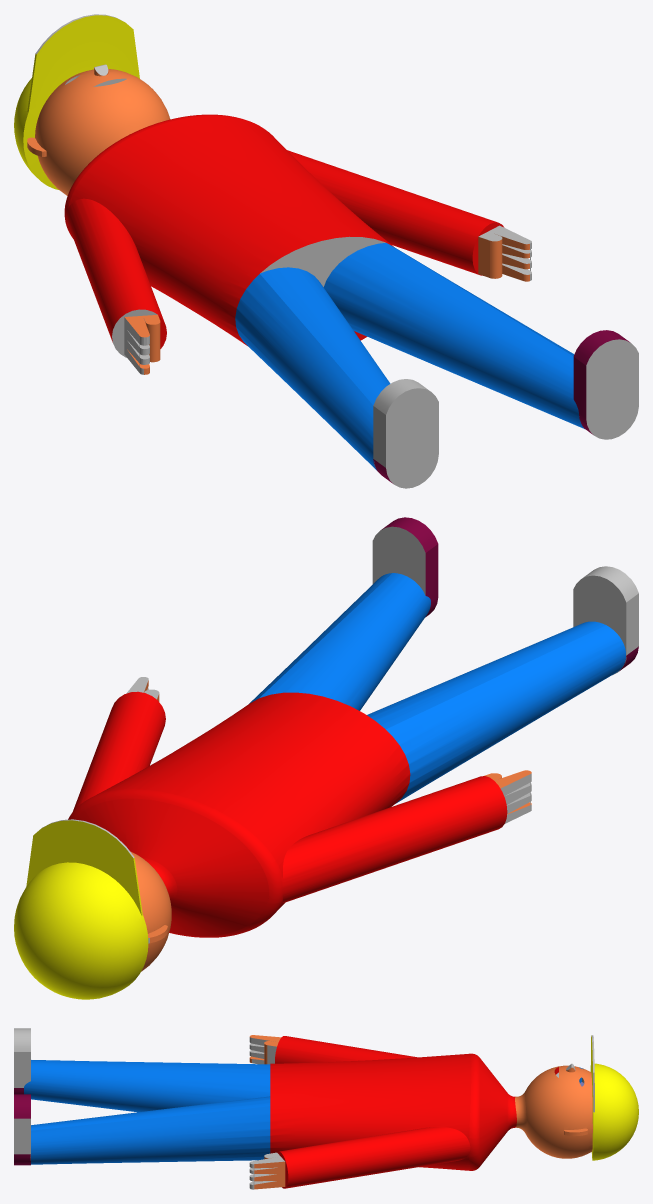
Rendered from Ash.obj.
The picture shows the model from 3 angles, top to bottom: view 1: azimuth 30°, elevation 25°; view 2: azimuth 150°, elevation 25°; view 3: azimuth 270°, elevation 25°; orthographic projection. The views are drawn at different scales.
Visible parts, largest first — view 1: obj0_13, obj0_01, obj0_06, obj0, obj0_16, obj0_14, obj0_11, obj0_04, obj0_03, obj0_05, obj0_07, obj0_19 (+2 smaller); view 2: obj0_13, obj0_01, obj0_14, obj0_10, obj0_09, obj0_06, obj0_16, obj0_12, obj0_04, obj0, obj0_19, obj0_02 (+1 smaller); view 3: obj0_13, obj0_02, obj0_04, obj0_16, obj0, obj0_14, obj0_10, obj0_06, obj0_09, obj0_01, obj0_07, obj0_05 (+2 smaller).
Part boxes in pixels (box(x1,y1,x2,y2)): obj0_13: box(68, 116, 393, 345); obj0_01: box(235, 243, 584, 470); obj0_06: box(35, 14, 638, 488); obj0: box(35, 69, 170, 195); obj0_16: box(287, 150, 497, 275); obj0_14: box(64, 114, 259, 342); obj0_11: box(23, 15, 139, 190); obj0_04: box(260, 267, 390, 405); obj0_03: box(139, 236, 531, 465); obj0_05: box(27, 67, 529, 374); obj0_07: box(145, 237, 529, 362); obj0_19: box(373, 357, 592, 483); obj0_13: box(95, 692, 410, 912); obj0_01: box(260, 573, 625, 803); obj0_14: box(68, 776, 507, 937); obj0_10: box(14, 862, 148, 999); obj0_09: box(74, 798, 268, 935); obj0_06: box(42, 526, 638, 943); obj0_16: box(73, 691, 165, 811); obj0_12: box(26, 820, 141, 915); obj0_04: box(367, 621, 605, 729); obj0: box(130, 851, 171, 971); obj0_19: box(425, 544, 638, 671); obj0_02: box(249, 573, 391, 703); obj0_13: box(270, 1053, 471, 1170); obj0_02: box(31, 1106, 270, 1164); obj0_04: box(24, 1060, 270, 1112); obj0_16: box(279, 1127, 470, 1188); obj0: box(525, 1065, 592, 1158); obj0_14: box(275, 1036, 516, 1170); obj0_10: box(592, 1063, 638, 1160); obj0_06: box(14, 1028, 594, 1189); obj0_09: box(277, 1058, 558, 1188); obj0_01: box(31, 1060, 581, 1130); obj0_07: box(254, 1044, 586, 1189); obj0_05: box(249, 1056, 587, 1159).
Size of the model in its own units: 0.9009 by 0.3821 by 1.82.
